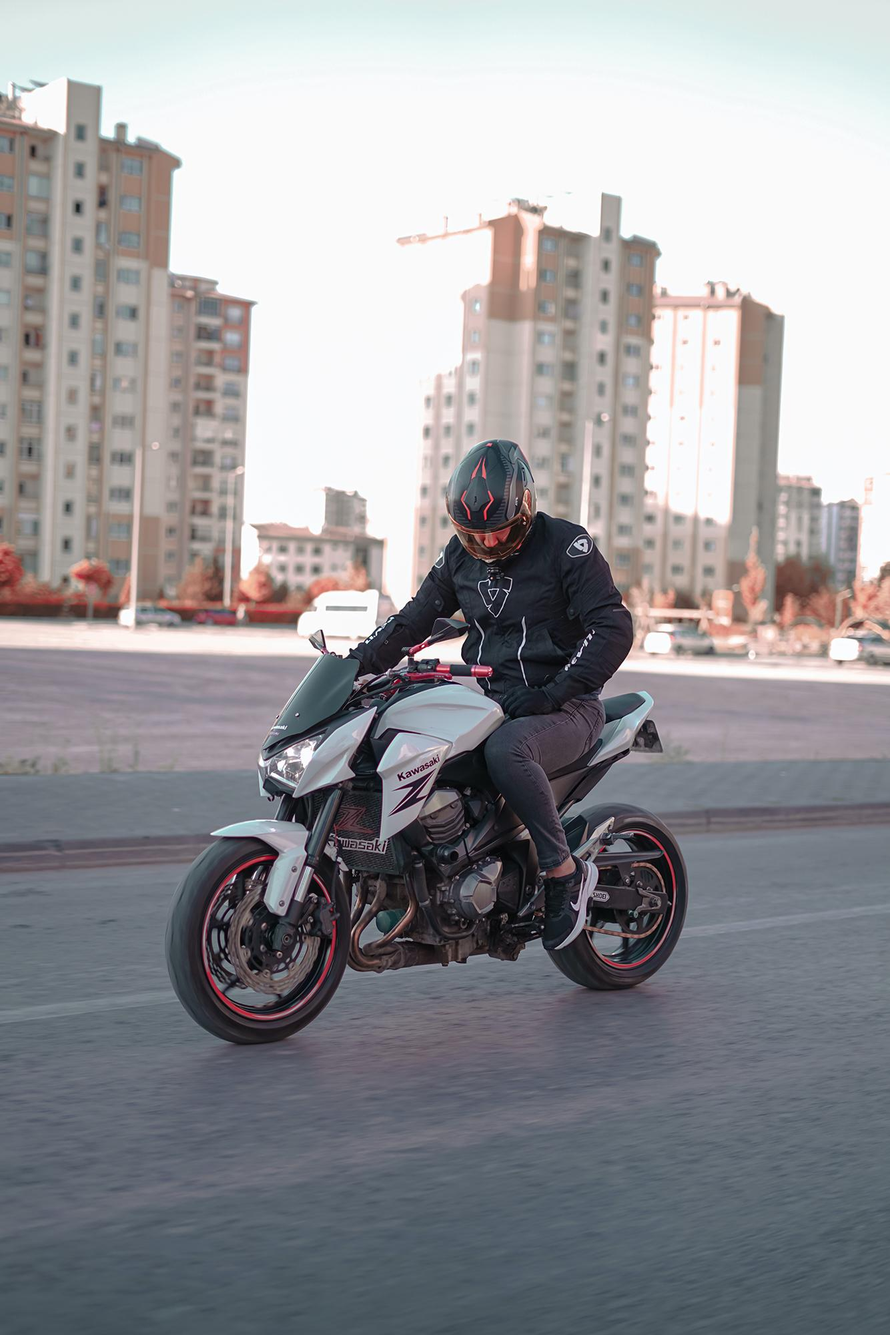helmet: (445, 438, 538, 569)
